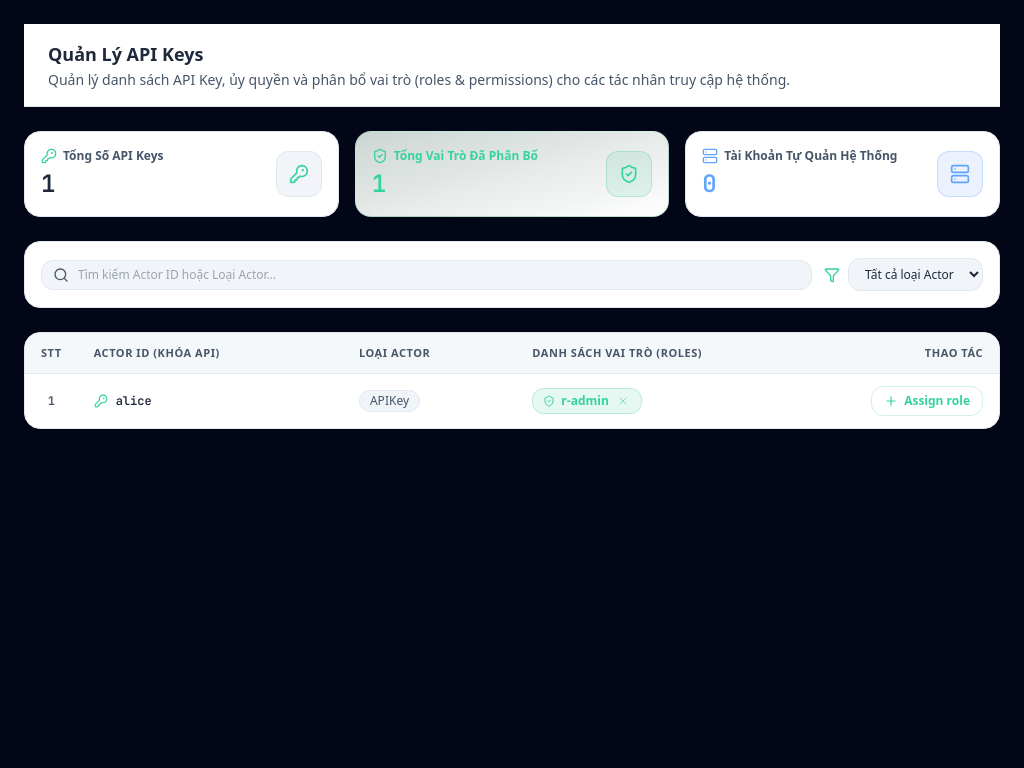
KeysPage — HIGH-10 GUI half scope + expiry › switching to profile scope reveals the scope_id input and marks it required
Click the button with test id "keys-assign-alice" at (927, 401), box [871,386,983,416]
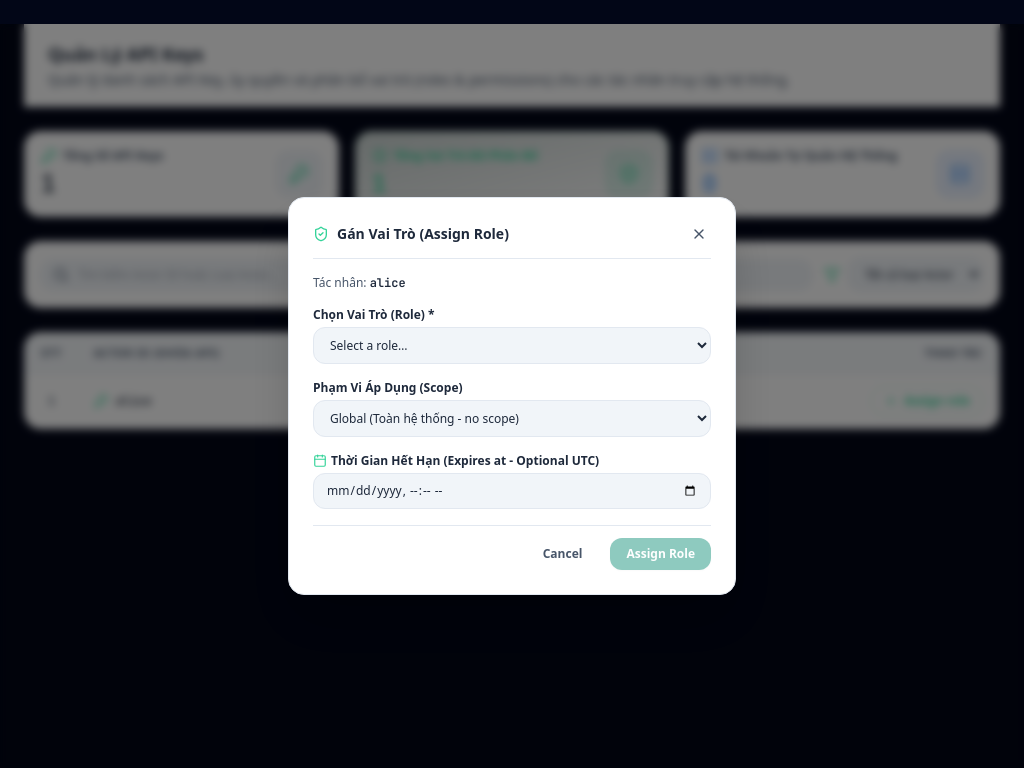
Result: the element with test id "assign-role-modal" is shown at [288,197,736,595]
Select "operator (r-operator)" in the dropdown with test id "assign-role-select" at (512, 346), box [313,327,711,364]
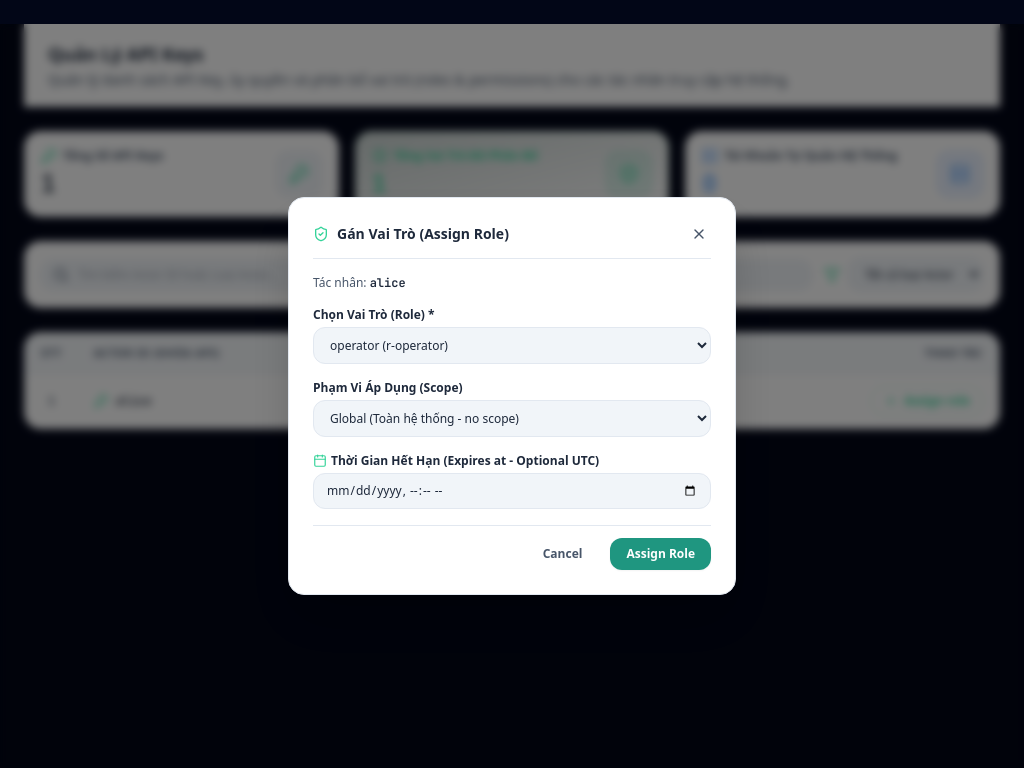
Select "Per profile (Theo Hồ sơ cấu hình)" in the dropdown with test id "assign-role-scope-type" at (512, 418), box [313,400,711,437]
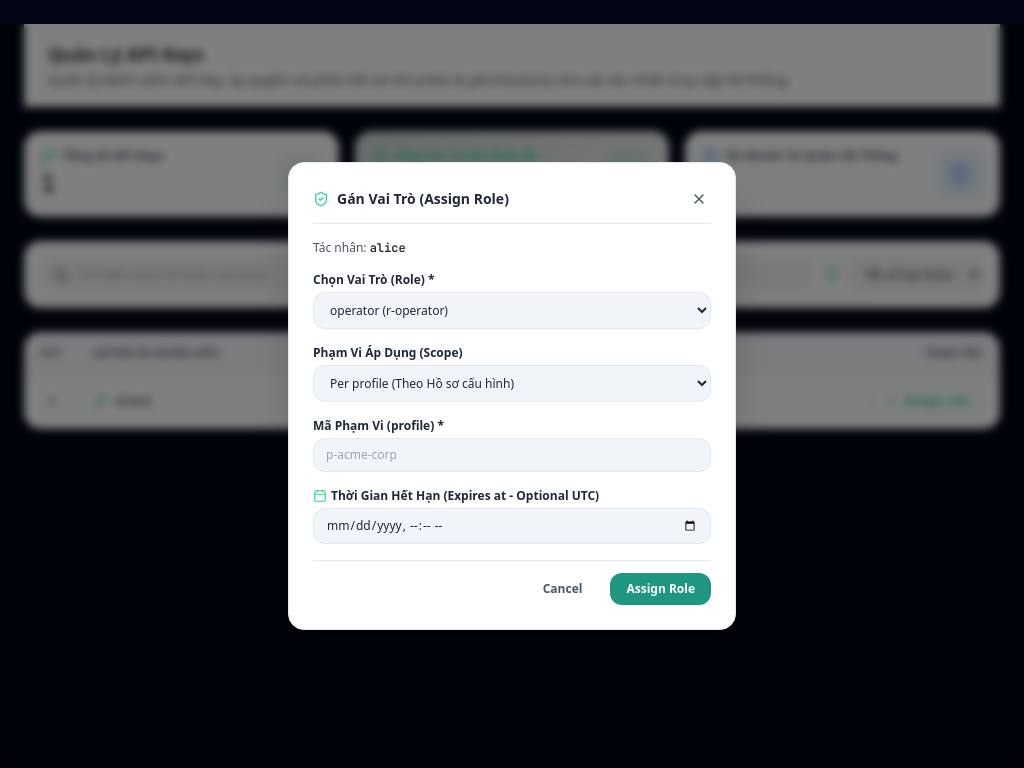
Result: the field with test id "assign-role-scope-id" is shown at [313,438,711,472]
